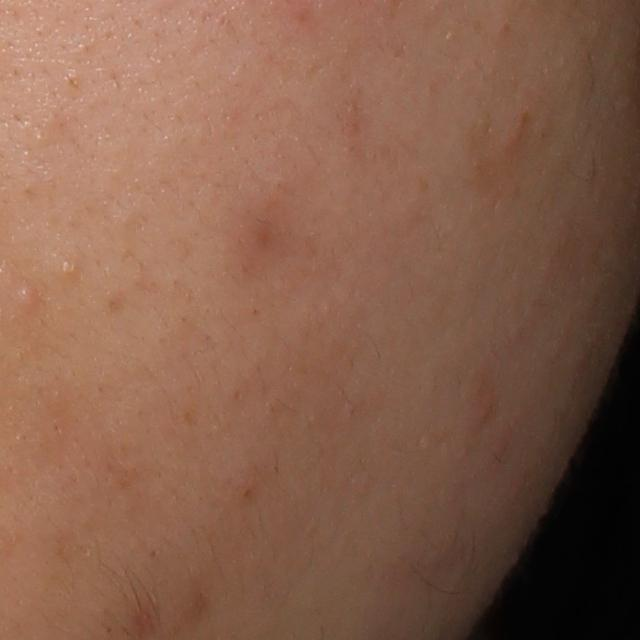comedo: (56, 254, 83, 280), (14, 281, 38, 308)
papule: (503, 123, 526, 150)
